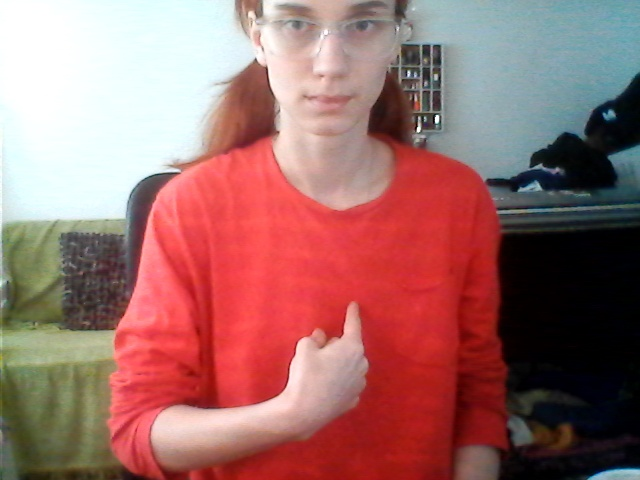ja: (263, 283, 405, 455)
